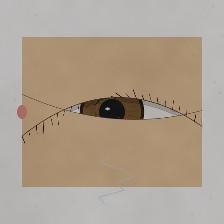foreign_body_visible: (112, 122, 153, 156)
